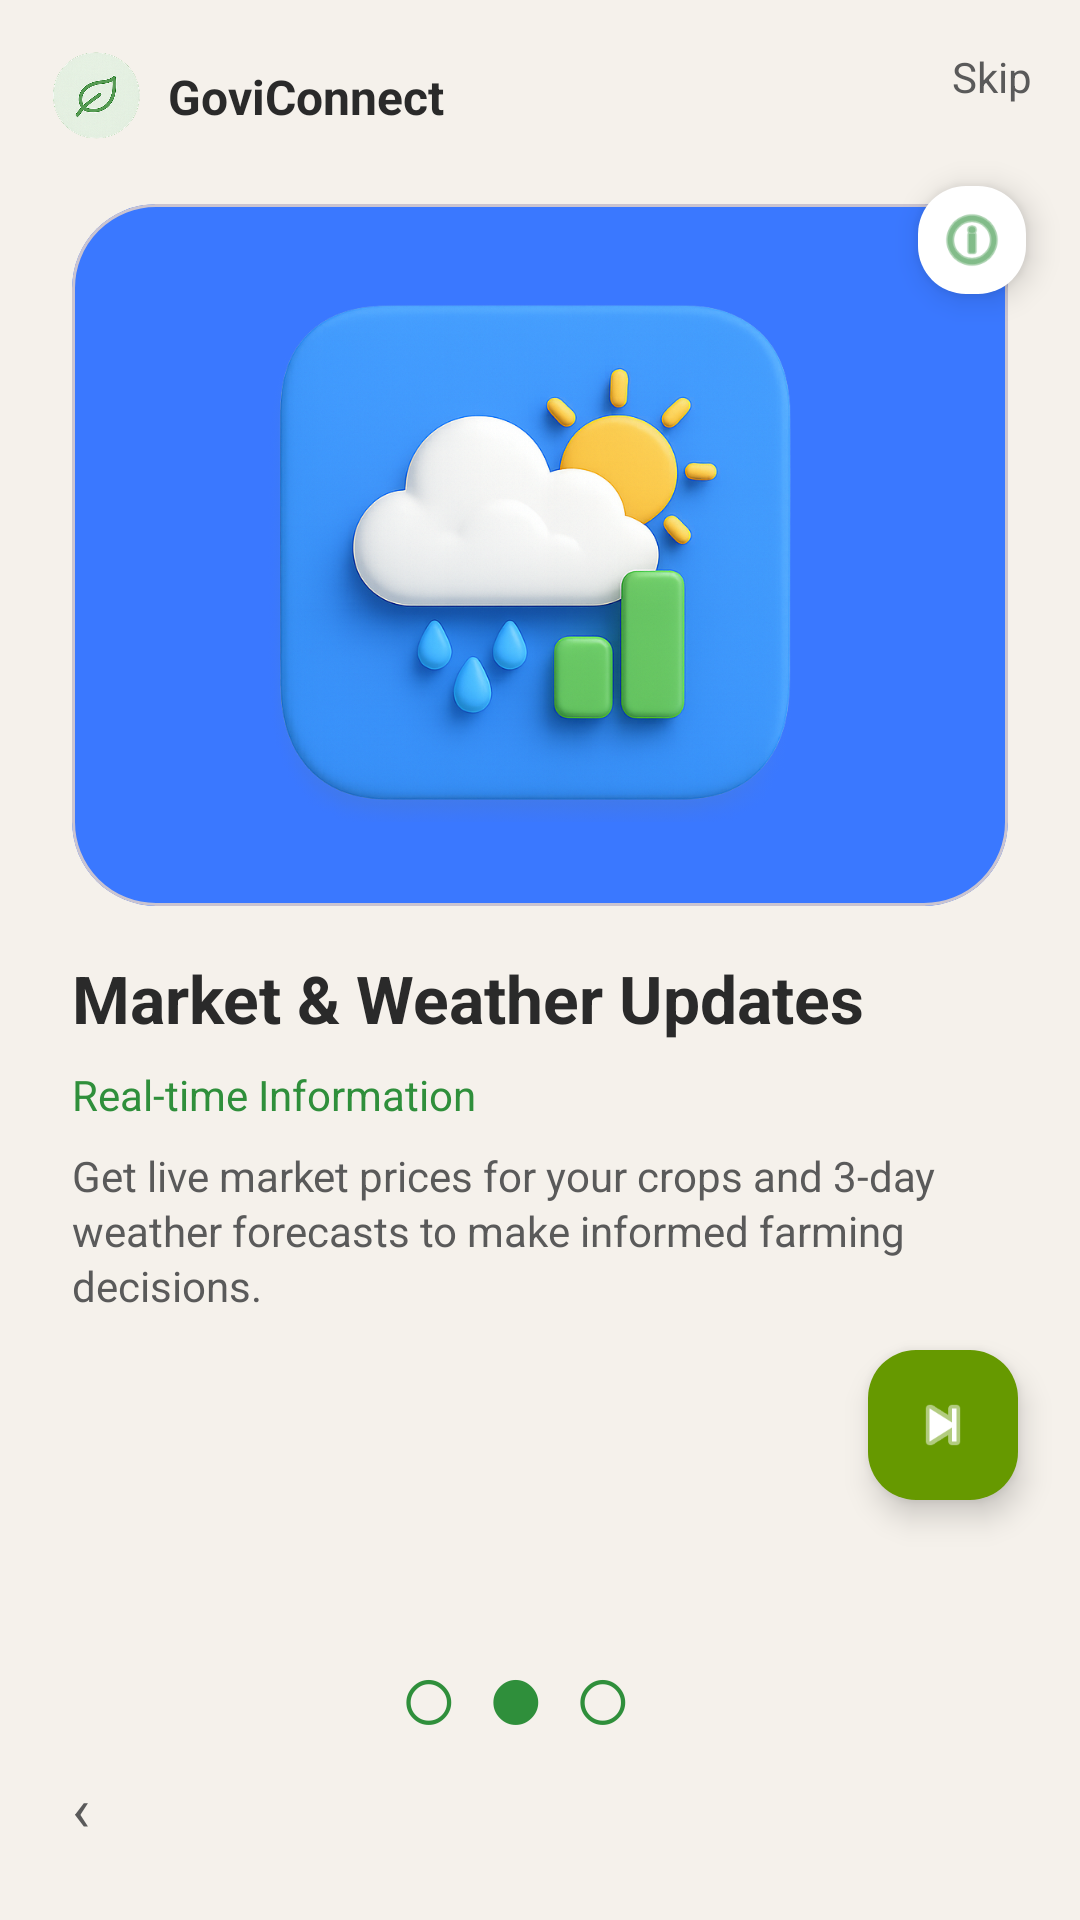

Where icons sit on this 1080x1920 app screen, as rect(x1, y1, x2, y2):
Next: rect(868, 1350, 1018, 1500)
